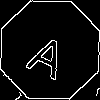A: (25, 25, 75, 81)
